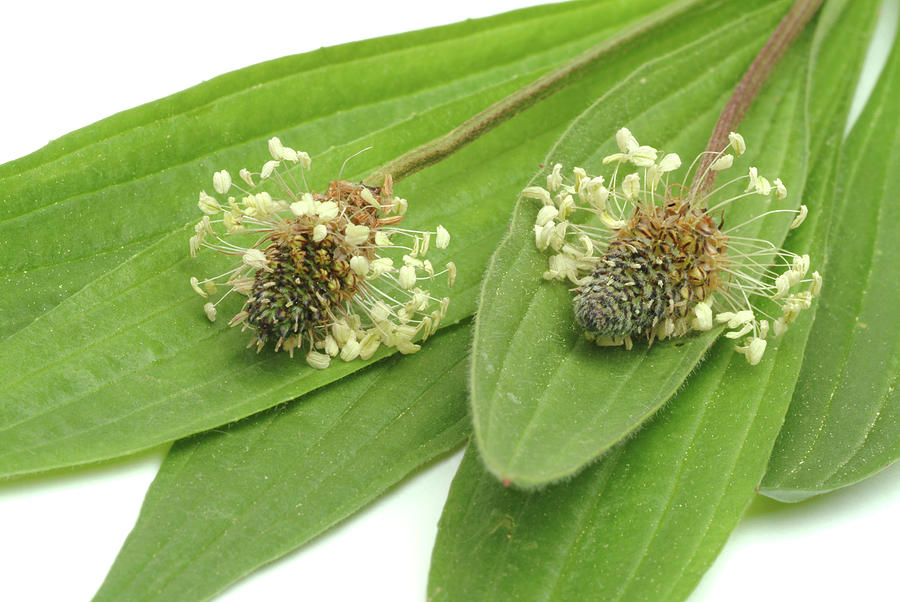buckhorn plantain: (548, 29, 842, 364), (205, 88, 478, 386)
